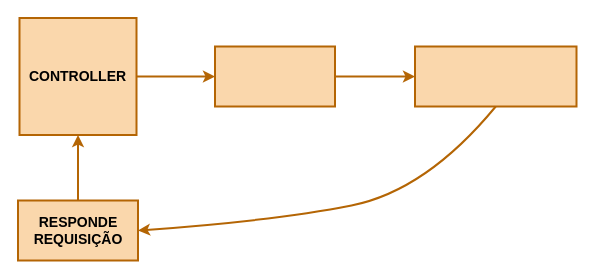
Image size: 595x279. Some labels were removed from this diagram. Each missing label, with the box of its shape:
COMUNICAÇÃO COM OS MODELS: (414, 45, 577, 107)
VERIFICA PARÂMETROS: (214, 45, 336, 107)
